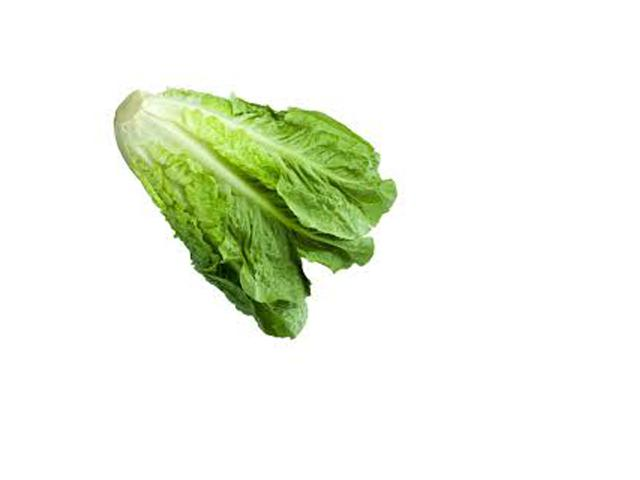lettuce: (96, 64, 394, 348)
